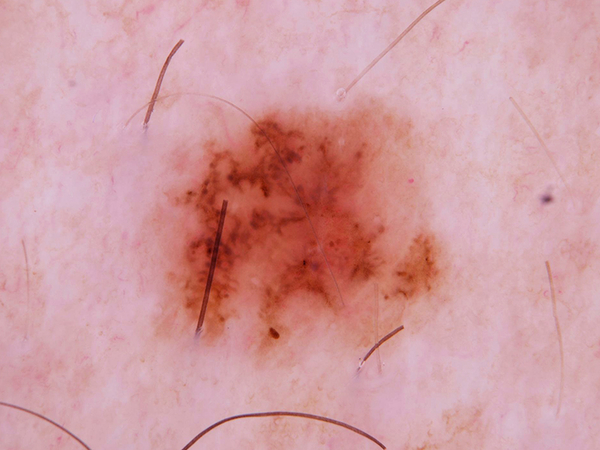Color changes: (246, 266, 290, 315)
